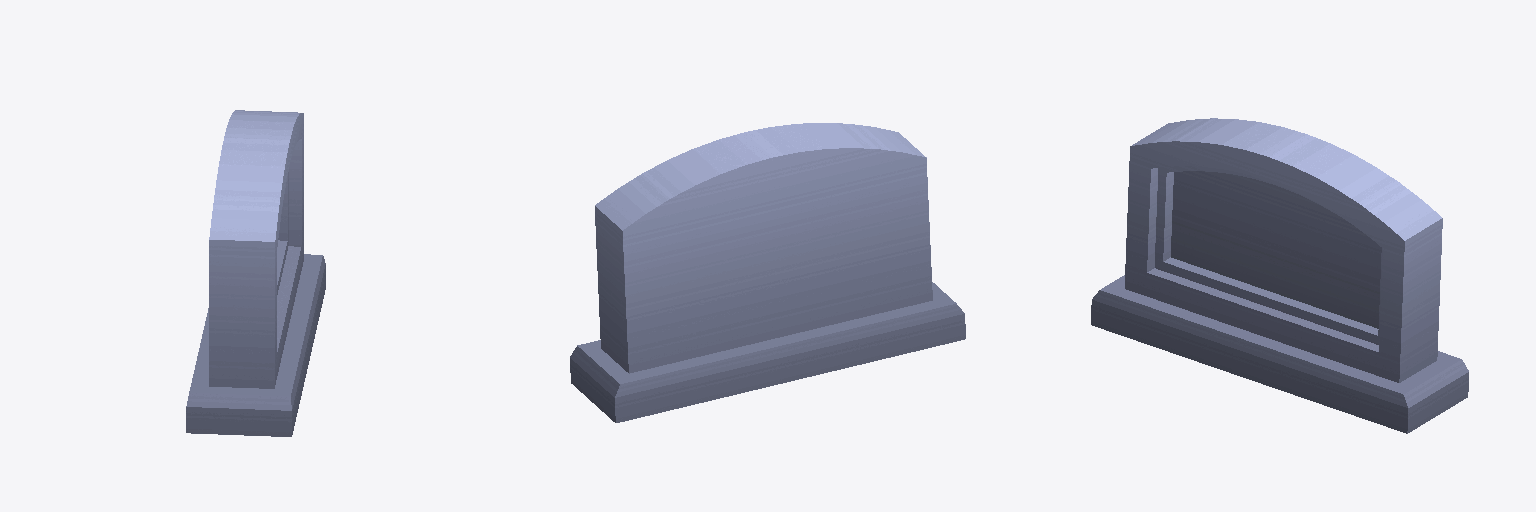
3 views of the same model, side by side, from view 1: azimuth 30°, elevation 25°; view 2: azimuth 150°, elevation 25°; view 3: azimuth 270°, elevation 25° (orthographic).
Parts seen in each view (by area): view 1: Gravestone_Wide_1; view 2: Gravestone_Wide_1; view 3: Gravestone_Wide_1.
Part boxes in pixels (x1,y1,x2,y2): Gravestone_Wide_1: (186,110,325,436); Gravestone_Wide_1: (570,123,965,422); Gravestone_Wide_1: (1091,118,1468,433).
Bounding box in the file's own units: 0.629 × 0.5067 × 0.7696.
1 materials, 1 textured.